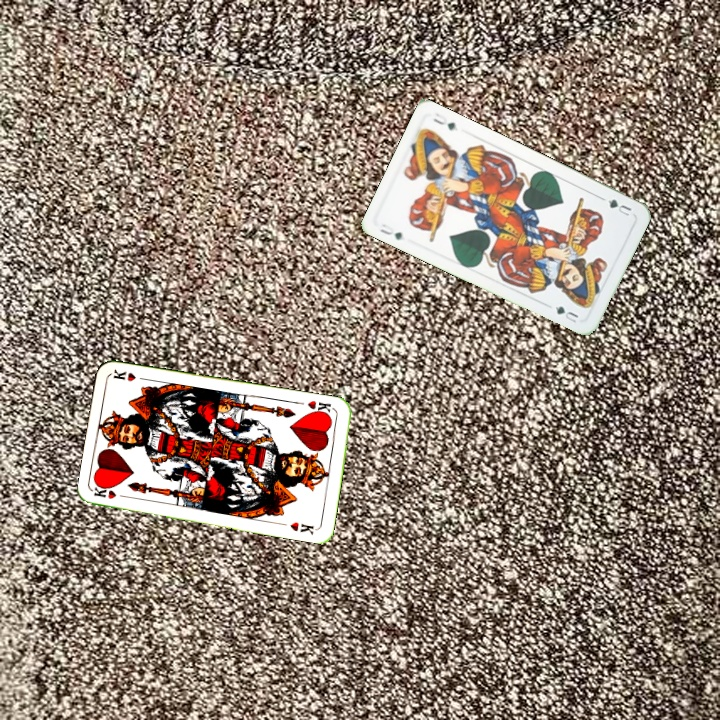GU: (598, 193, 634, 218), (376, 220, 405, 243)
HK: (91, 483, 132, 501), (303, 396, 334, 418)
